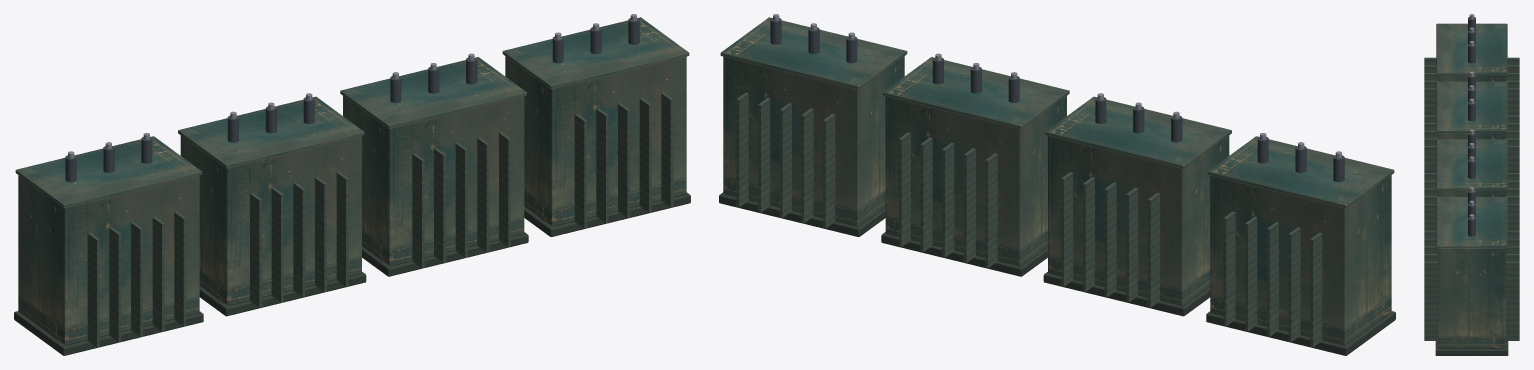
The model's file is di-transformer.glb.
3 renders of one model, left to right at view 1: azimuth 30°, elevation 25°; view 2: azimuth 150°, elevation 25°; view 3: azimuth 270°, elevation 25°, orthographic. The views are drawn at different scales.
Parts seen in each view (by area): view 1: T1_Body, T2_Body, T3_Body, T4_Body, T1_Lid, T4_Lid, T3_Lid, T2_Lid, T1_Base, T2_Base, T3_Base, T4_Base (+20 smaller); view 2: T1_Body, T2_Body, T3_Body, T4_Body, T1_Lid, T4_Lid, T3_Lid, T2_Lid, T1_Base, T2_Base, T3_Base, T4_Base (+20 smaller); view 3: T4_Body, T1_Lid, T4_Lid, T3_Lid, T2_Lid, T4_Fin_S5, T4_Fin_N5, T4_Base, T1_Body, T2_Body, T3_Body, T1_Fin_S5 (+49 smaller).
Boxes of the visible parts, x1=… form: T1_Body: x1=18, y1=175, x2=199, y2=345; T2_Body: x1=180, y1=135, x2=361, y2=305; T3_Body: x1=343, y1=96, x2=524, y2=266; T4_Body: x1=505, y1=56, x2=686, y2=226; T1_Lid: x1=15, y1=136, x2=202, y2=208; T4_Lid: x1=502, y1=17, x2=689, y2=89; T3_Lid: x1=340, y1=57, x2=526, y2=128; T2_Lid: x1=178, y1=96, x2=364, y2=168; T1_Base: x1=14, y1=311, x2=203, y2=355; T2_Base: x1=199, y1=272, x2=366, y2=316; T3_Base: x1=362, y1=232, x2=528, y2=276; T4_Base: x1=524, y1=192, x2=690, y2=236; T1_Body: x1=1210, y1=175, x2=1391, y2=345; T2_Body: x1=1048, y1=135, x2=1229, y2=305; T3_Body: x1=885, y1=96, x2=1066, y2=266; T4_Body: x1=723, y1=56, x2=904, y2=226; T1_Lid: x1=1207, y1=136, x2=1394, y2=208; T4_Lid: x1=720, y1=17, x2=907, y2=89; T3_Lid: x1=883, y1=57, x2=1069, y2=128; T2_Lid: x1=1045, y1=96, x2=1231, y2=168; T1_Base: x1=1206, y1=311, x2=1395, y2=355; T2_Base: x1=1043, y1=272, x2=1210, y2=316; T3_Base: x1=881, y1=232, x2=1047, y2=276; T4_Base: x1=719, y1=192, x2=885, y2=236; T4_Body: x1=1438, y1=248, x2=1505, y2=348; T1_Lid: x1=1436, y1=23, x2=1507, y2=75; T4_Lid: x1=1436, y1=197, x2=1507, y2=248; T3_Lid: x1=1436, y1=139, x2=1507, y2=190; T2_Lid: x1=1436, y1=81, x2=1507, y2=132; T4_Fin_S5: x1=1424, y1=261, x2=1437, y2=340; T4_Fin_N5: x1=1506, y1=261, x2=1519, y2=340; T4_Base: x1=1435, y1=341, x2=1508, y2=355; T1_Body: x1=1438, y1=75, x2=1505, y2=81; T2_Body: x1=1438, y1=133, x2=1505, y2=139; T3_Body: x1=1438, y1=190, x2=1505, y2=196; T1_Fin_S5: x1=1424, y1=88, x2=1436, y2=115.
Size of the model in its own units: 11.6 by 3.14 by 2.1.
5 materials, 5 textured.
